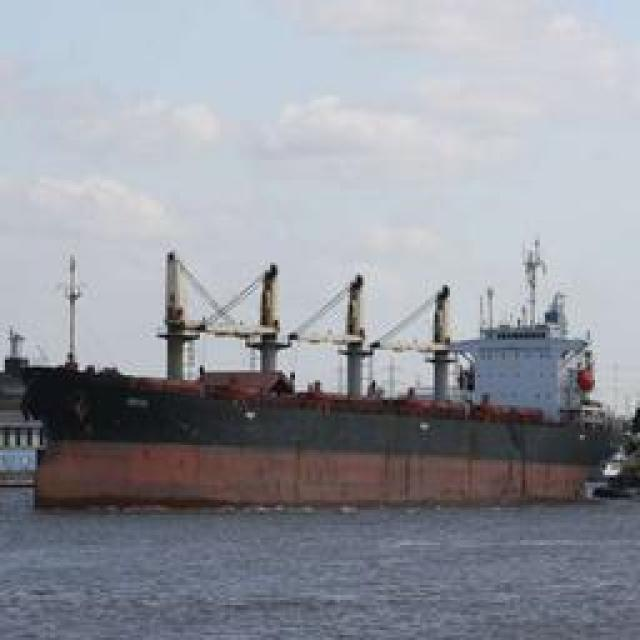CIV_Ship: (16, 240, 619, 482)
